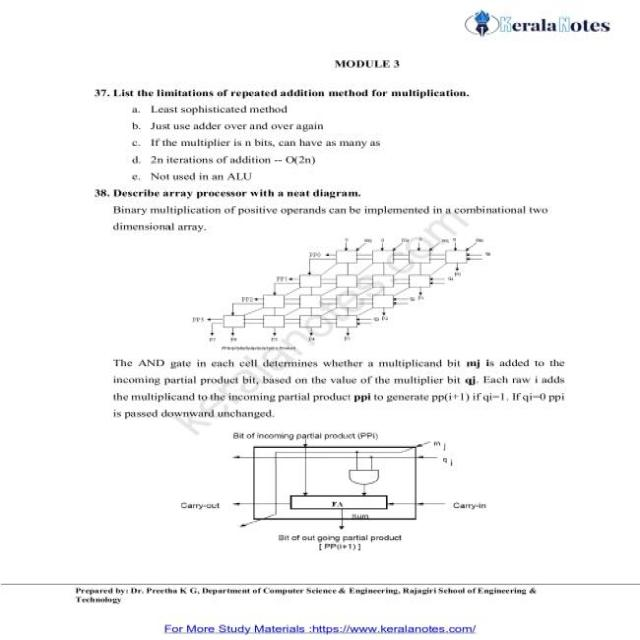Figure Detection - v3 Dataset Version2: (173, 425, 511, 562), (180, 232, 498, 354)
